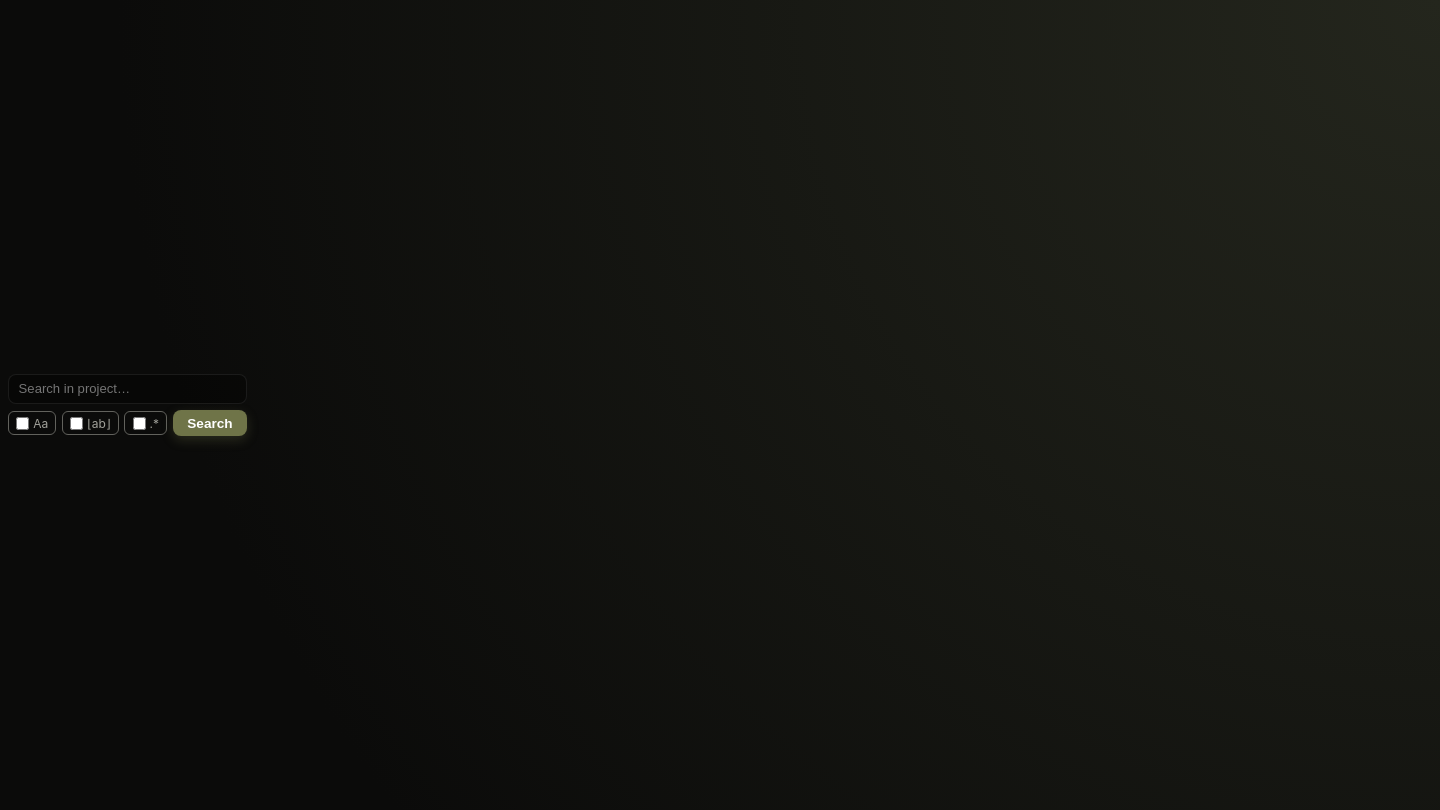
Scenario: SearchPanel › renders grouped results with line numbers after a search
This screenshot has width=1440, height=810.
Type "needle" into the field named "Search query".
click(128, 389); type("needle")  # box [8, 374, 247, 404]
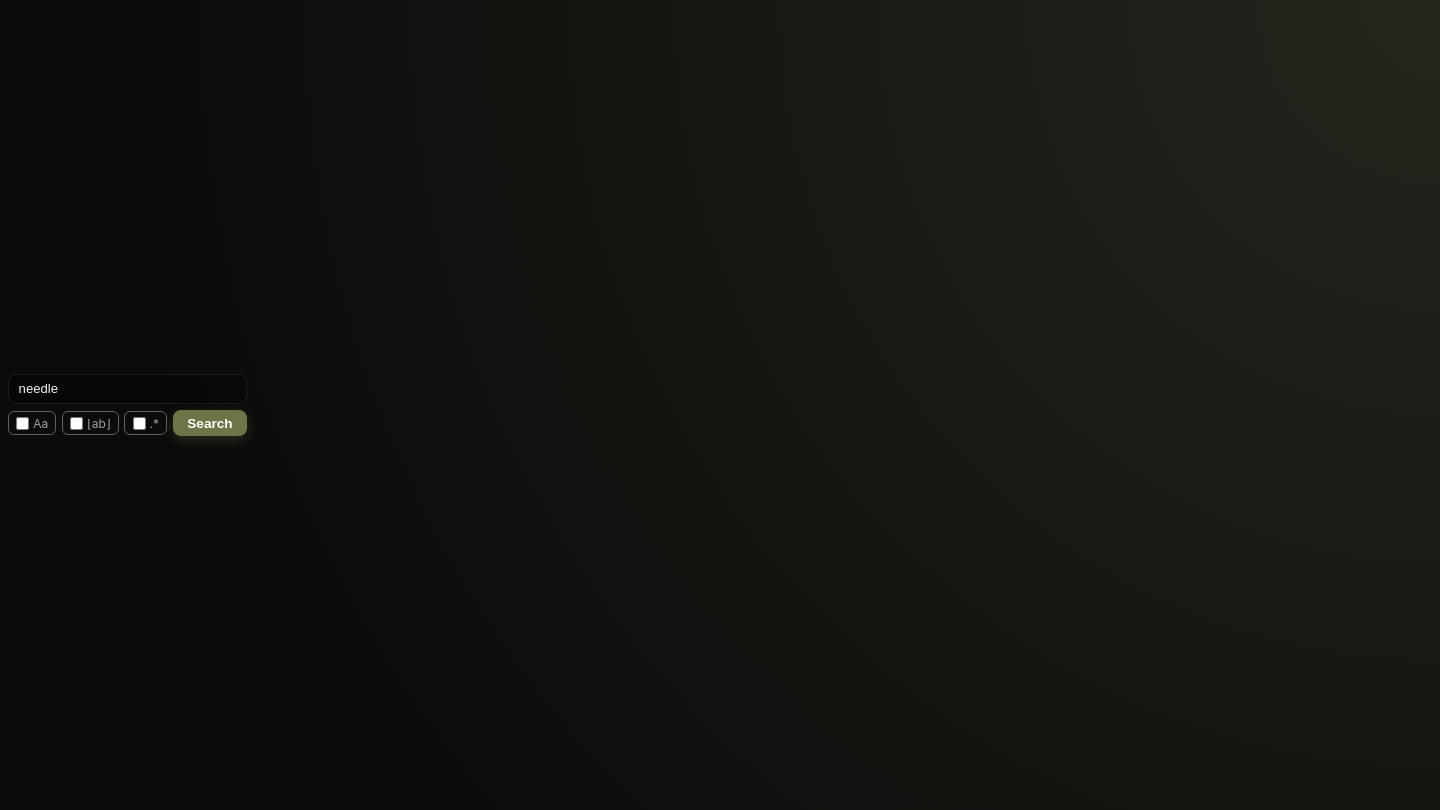
Click the button "Search".
click(210, 423)  # box [173, 410, 247, 436]
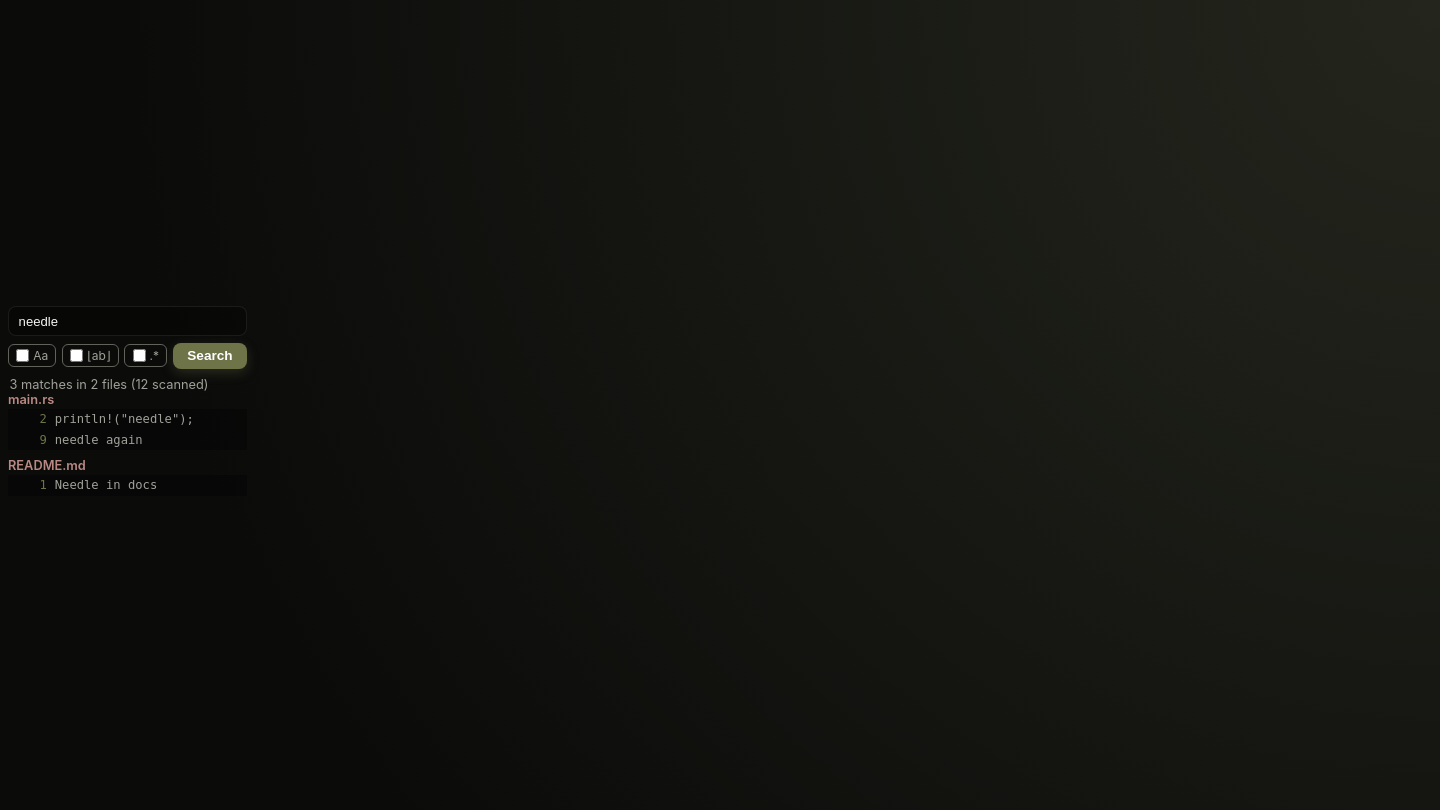
Check: the text "main.rs" is shown, box [8, 392, 54, 407]
Check: the text "README.md" is shown, box [8, 458, 86, 473]
Check: the text "3 matches in 2 files (12 scanned)" is shown, box [10, 377, 208, 392]
